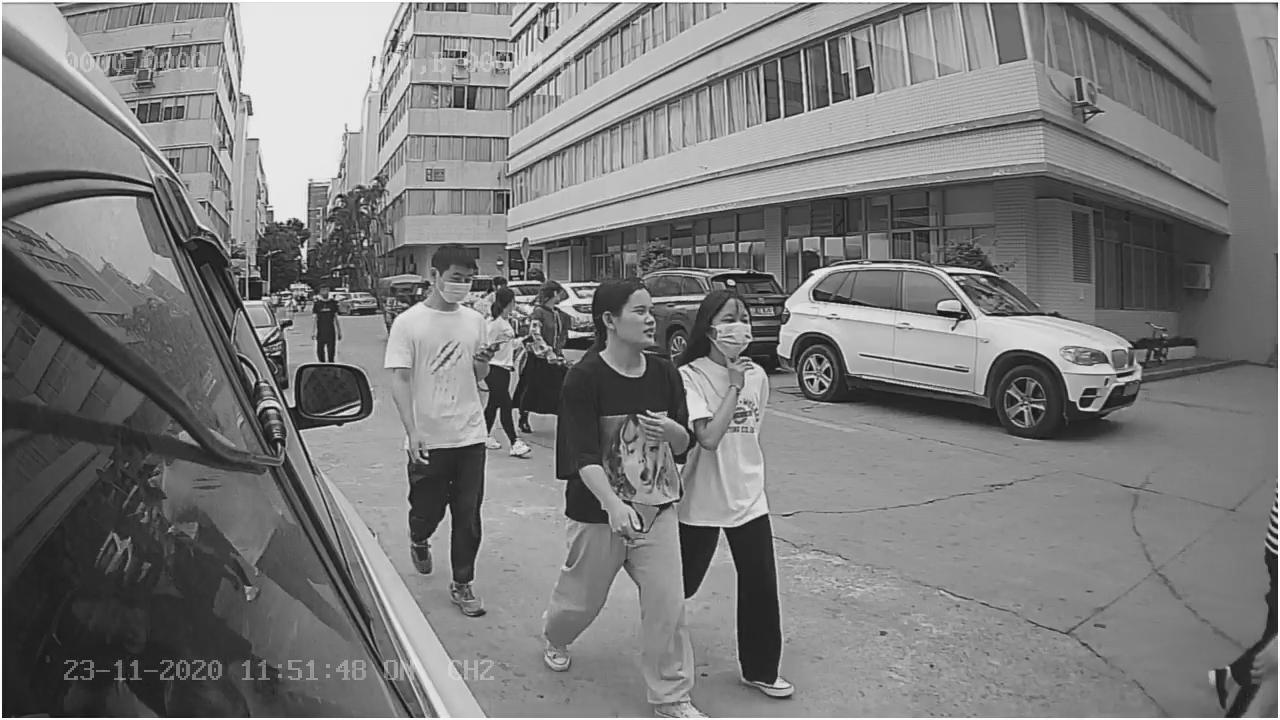person: (539, 287, 704, 709), (380, 233, 504, 614)
